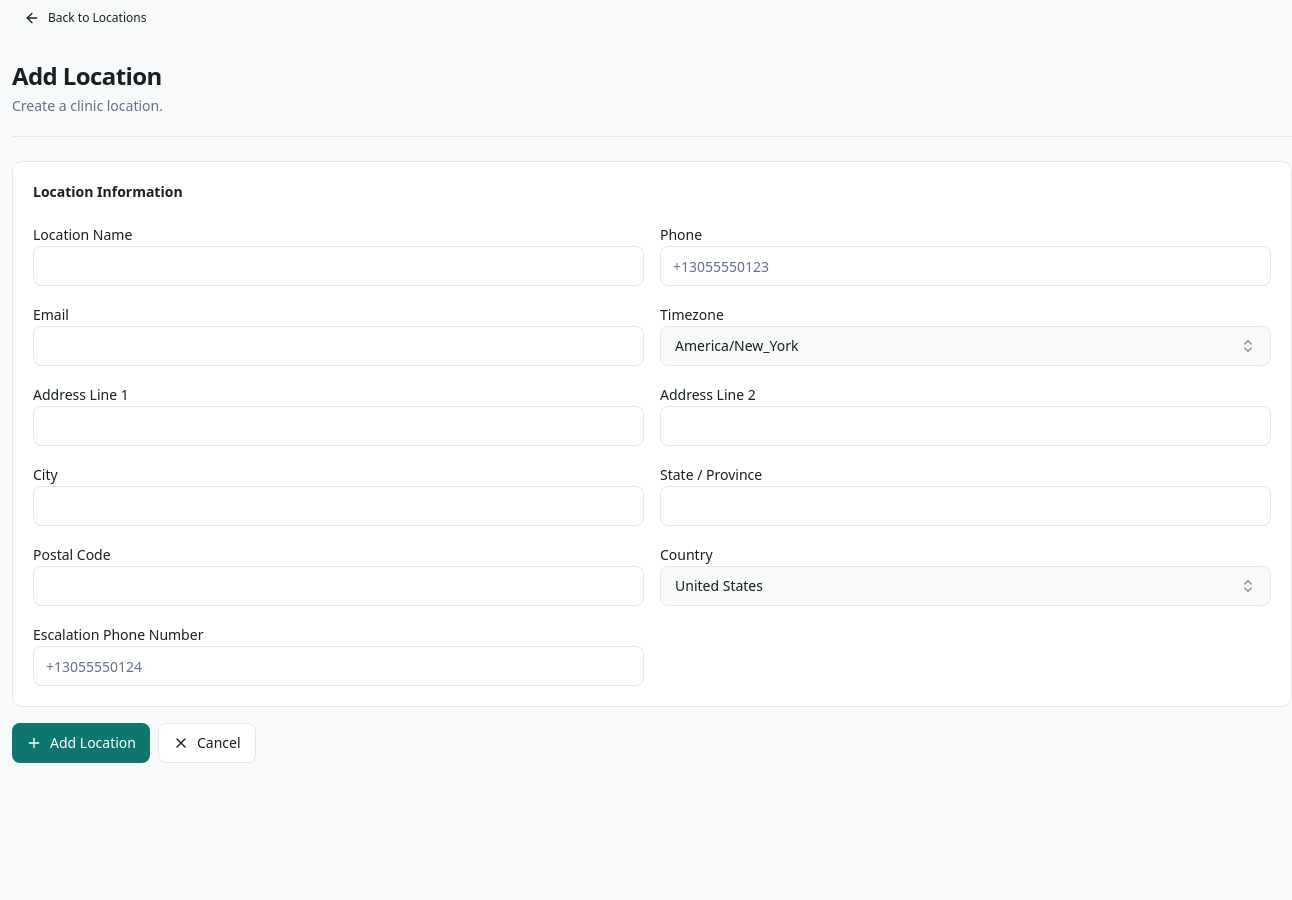
Location timezone field › renders multiple structured API errors inline and preserves values
Type "Clifton Branch" into the field labelled "Location Name".
click(338, 266); type("Clifton Branch")  # box [33,246,644,286]
Type "+923343683084" into the field labelled "Phone".
click(966, 266); type("+923343683084")  # box [660,246,1271,286]
Type "clinic@example.com" into the field labelled "Email".
click(338, 346); type("clinic@example.com")  # box [33,326,644,366]
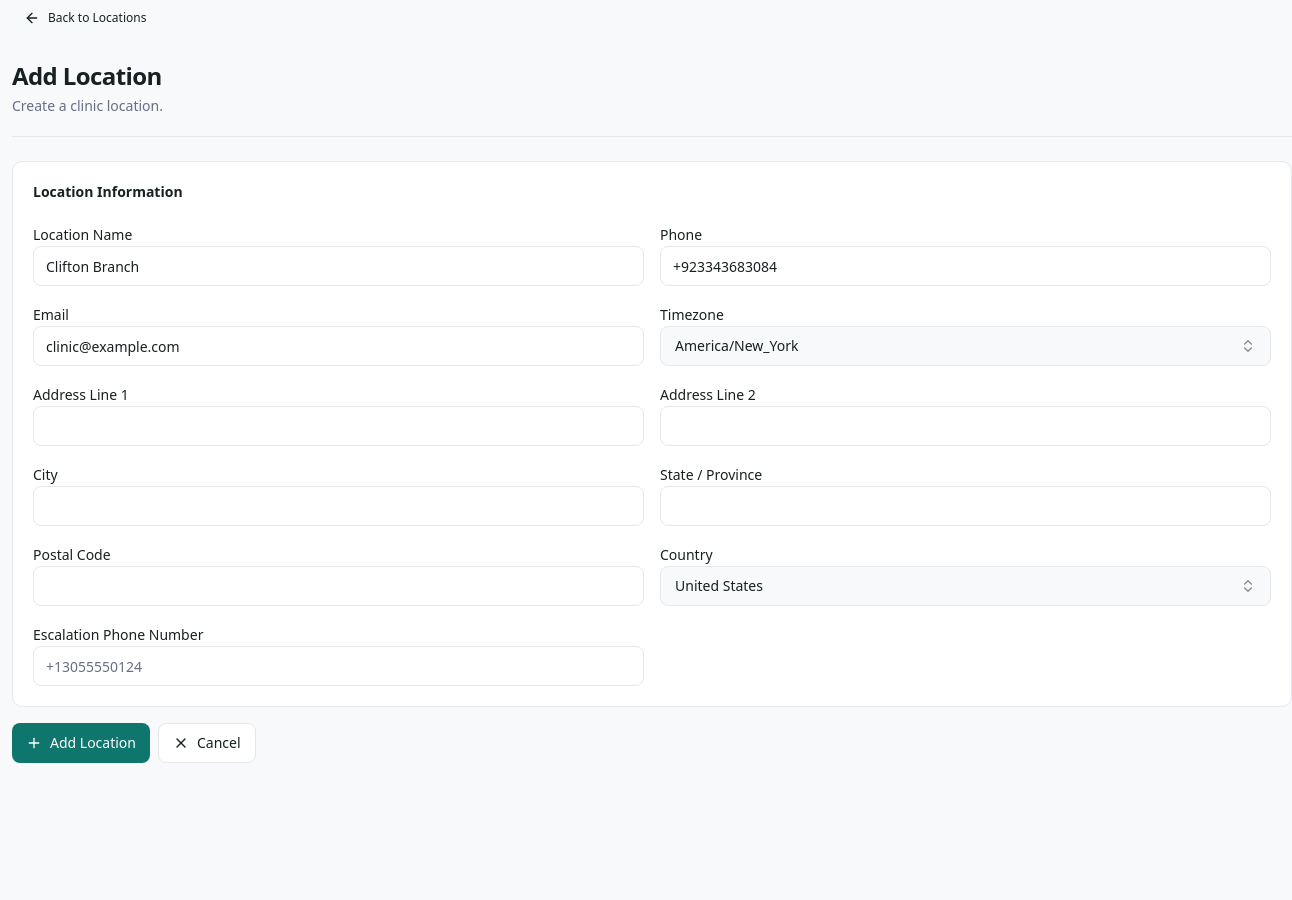
Type "1 Main St" into the field labelled "Address Line 1".
click(338, 426); type("1 Main St")  # box [33,406,644,446]
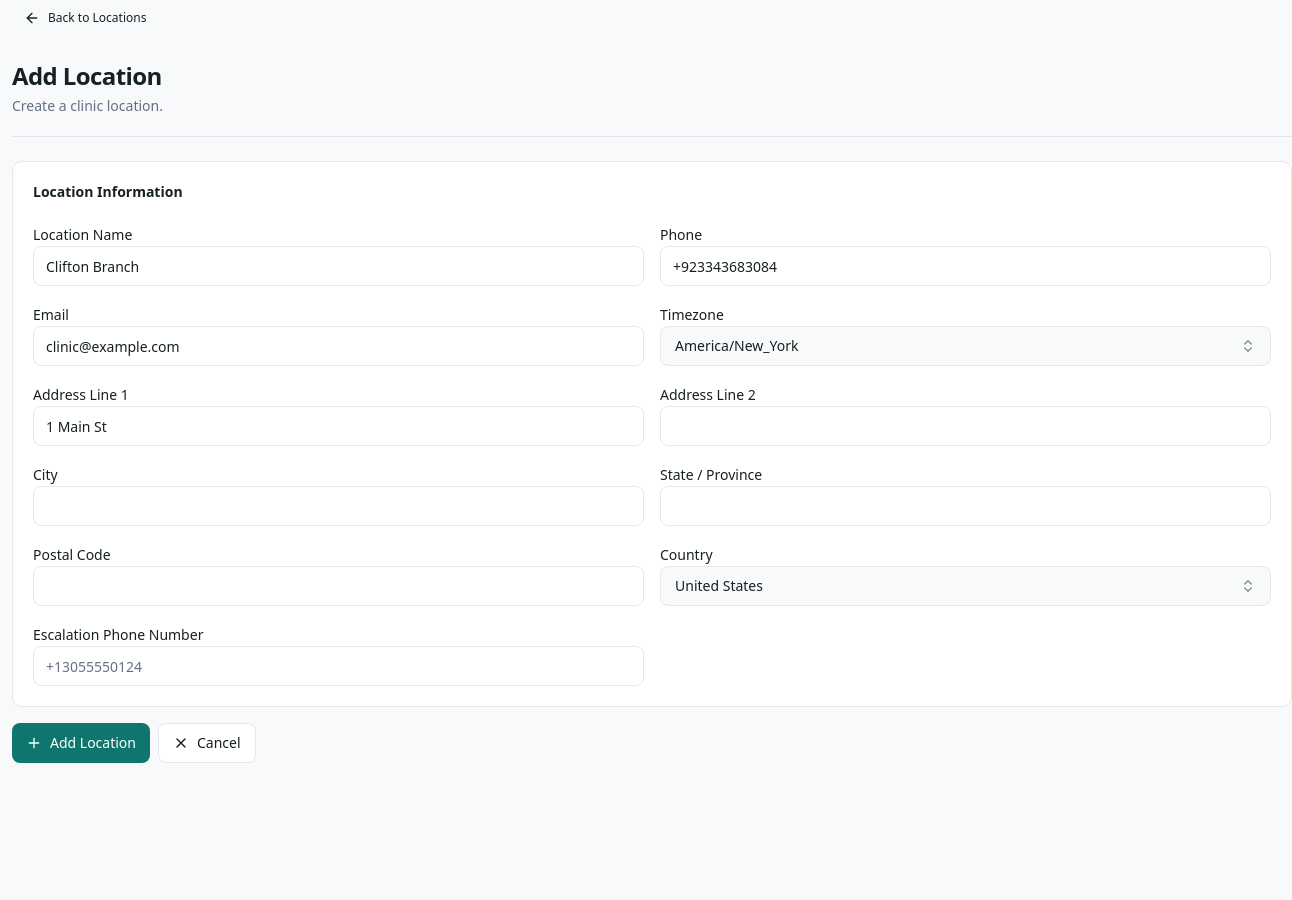
Type "Karachi" into the field labelled "City".
click(338, 506); type("Karachi")  # box [33,486,644,526]
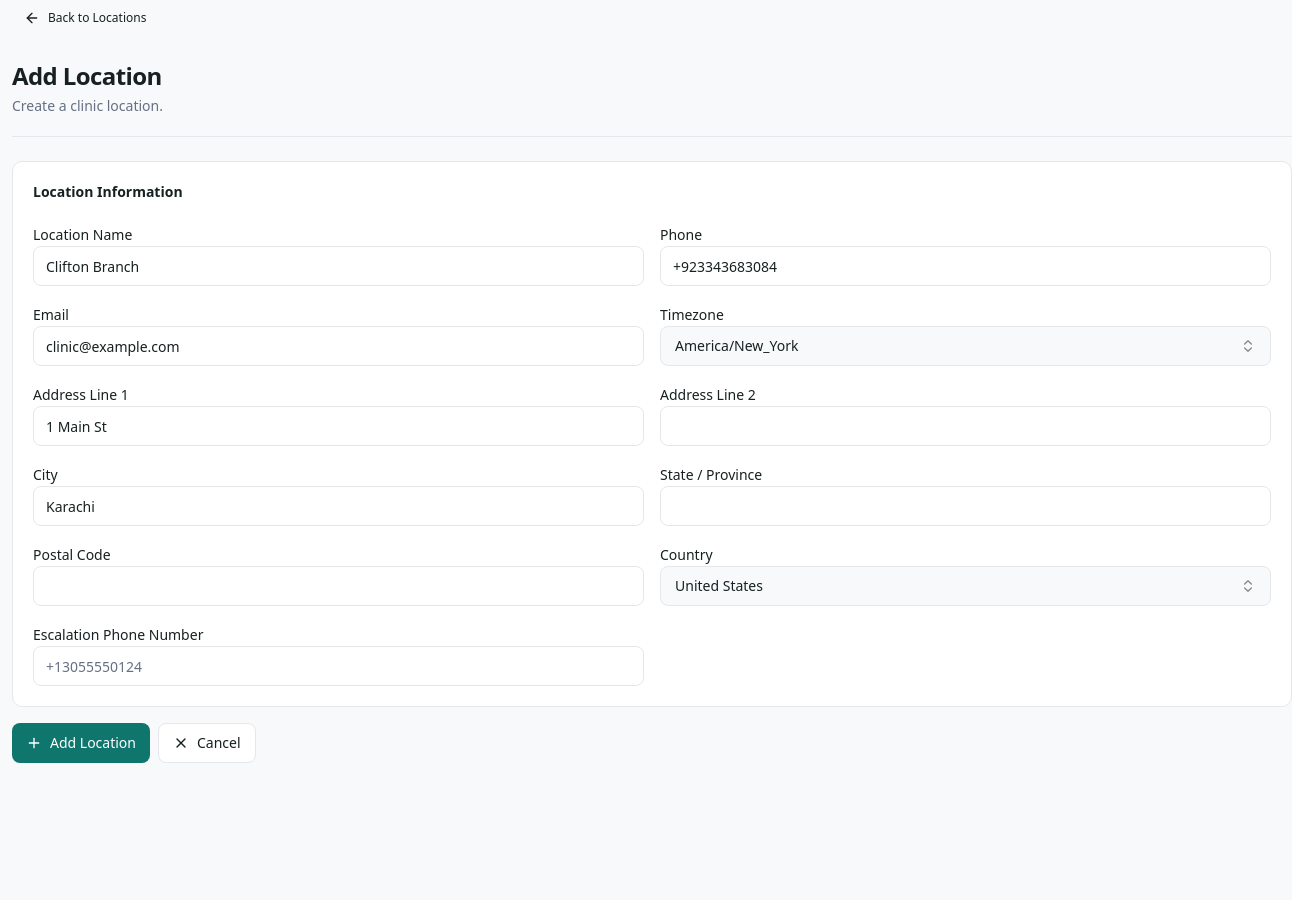
Type "Sindh" into the field labelled "State / Province".
click(966, 506); type("Sindh")  # box [660,486,1271,526]
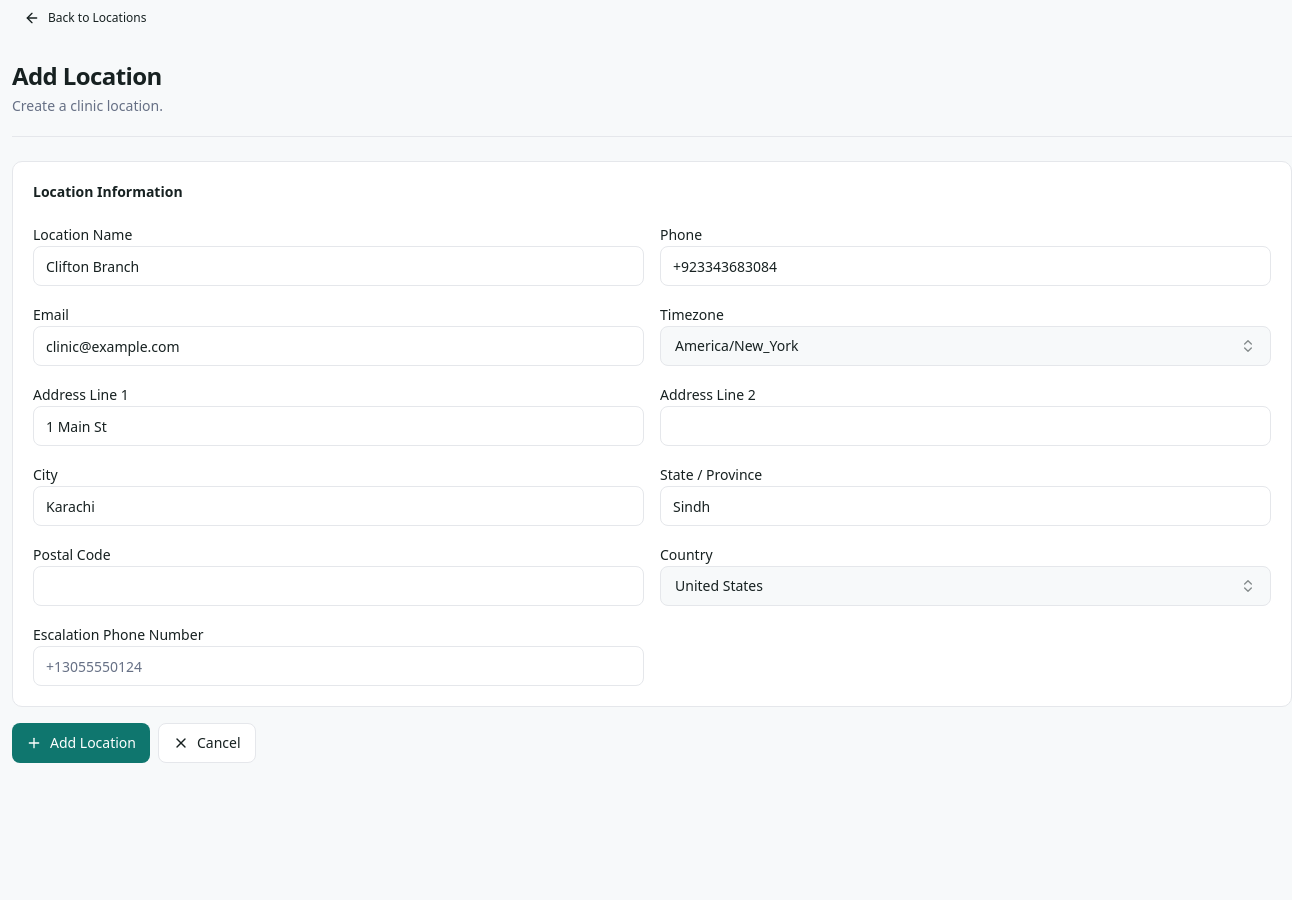
Type "75230" into the field labelled "Postal Code".
click(338, 586); type("75230")  # box [33,566,644,606]
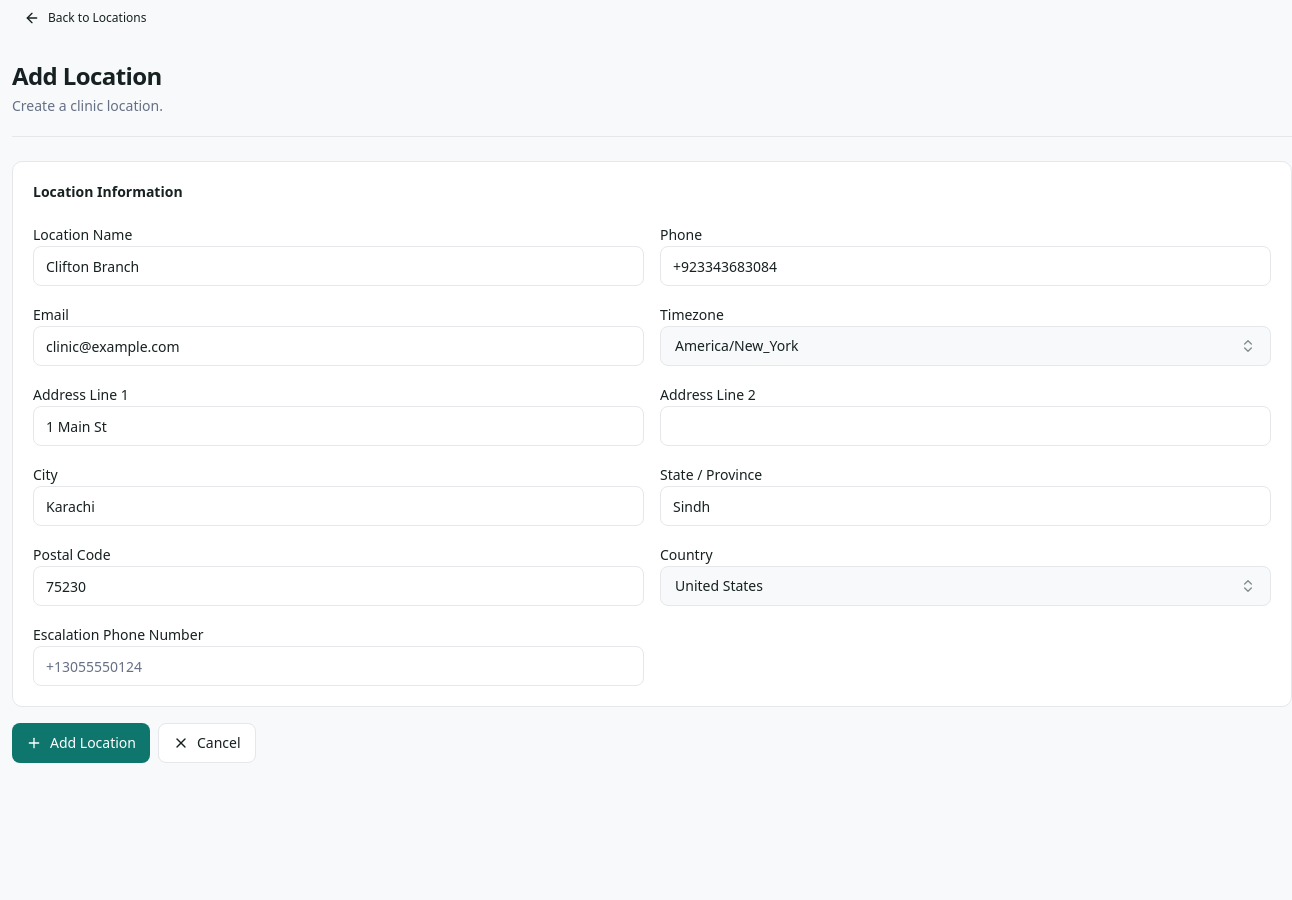
Click the button "Add Location".
click(81, 743)  # box [12,723,150,763]
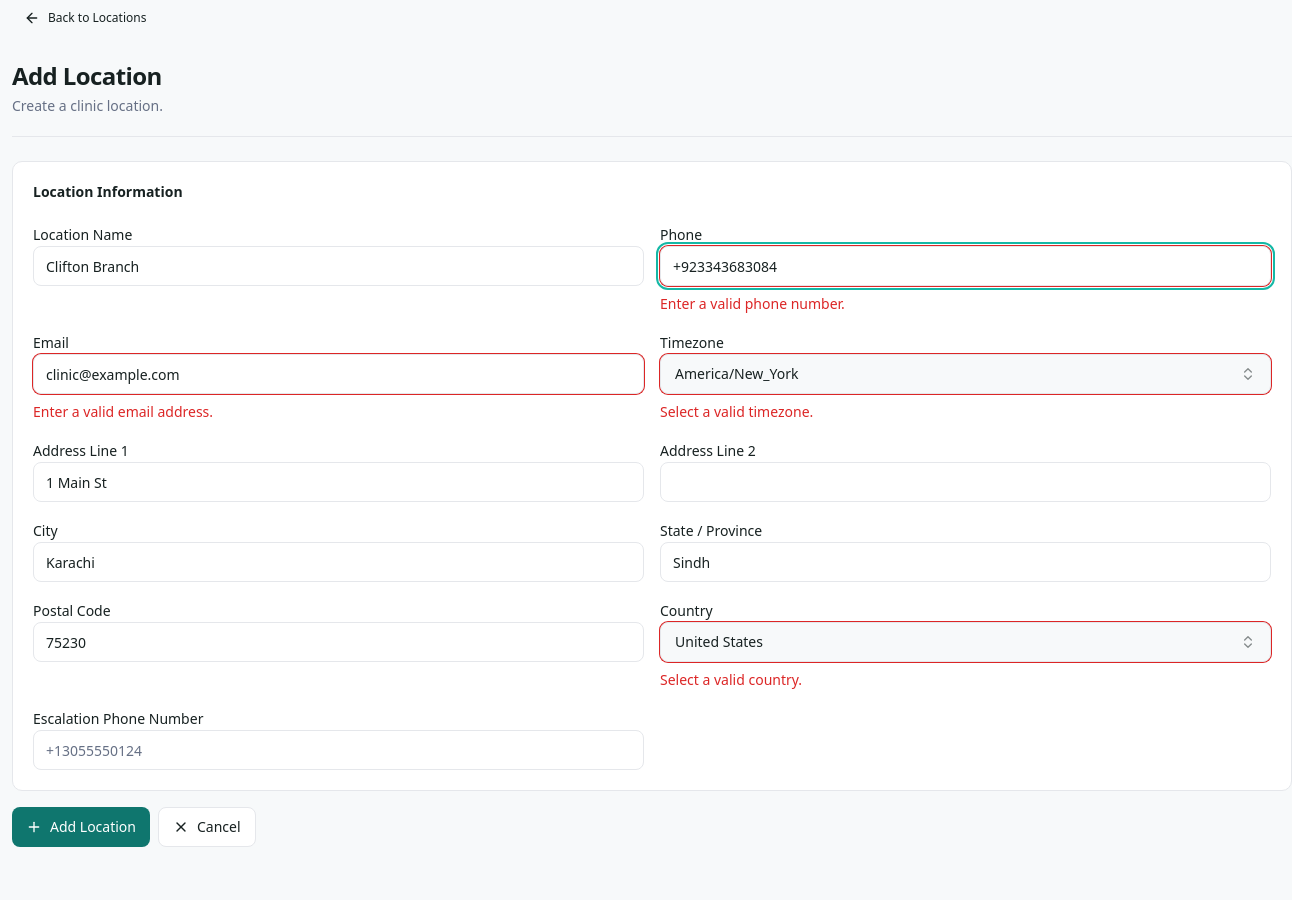
Expected: the text "Enter a valid phone number." is shown, [660,294,845,313]
Expected: the text "Enter a valid email address." is shown, [33,402,213,421]
Expected: the text "Select a valid timezone." is shown, [660,402,813,421]
